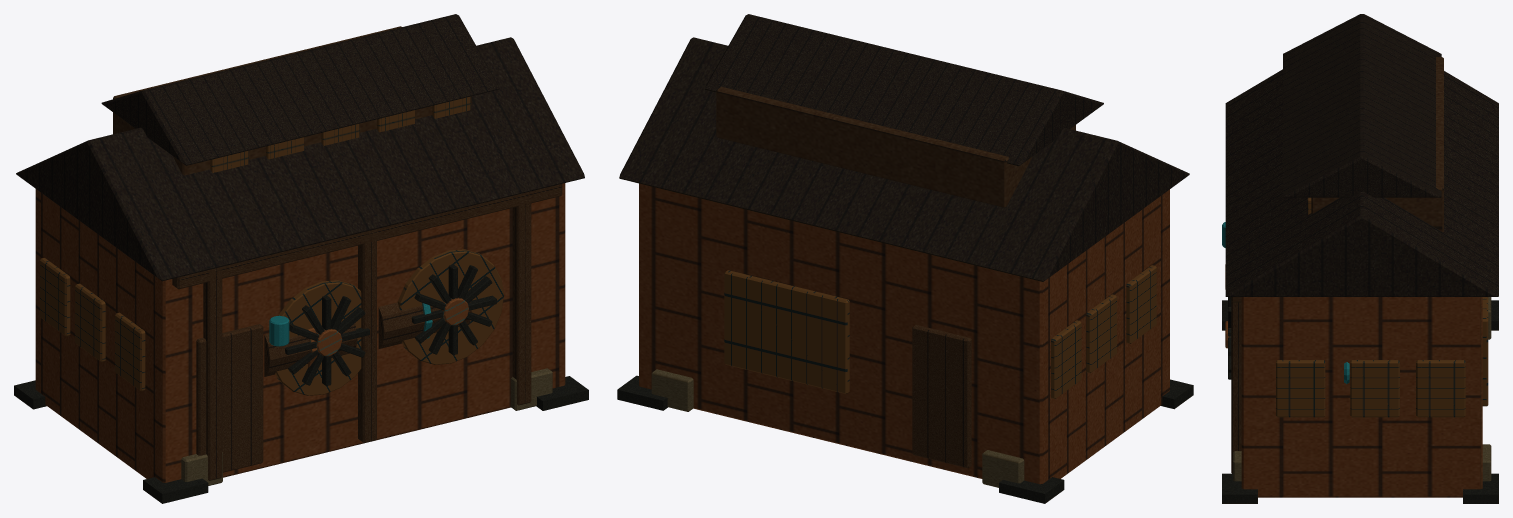
File: dynamo-hall.e5.glb
The picture shows the model from 3 angles, left to right: view 1: azimuth 30°, elevation 25°; view 2: azimuth 150°, elevation 25°; view 3: azimuth 270°, elevation 25°; orthographic projection. The views are drawn at different scales.
Visible parts, largest first — view 1: DynamoHallE5; view 2: DynamoHallE5; view 3: DynamoHallE5.
Boxes of the visible parts, x1,y1,x2,y2 form: DynamoHallE5: [14, 14, 588, 503]; DynamoHallE5: [617, 14, 1193, 503]; DynamoHallE5: [1222, 14, 1498, 503].
Bounding box in the file's own units: 5.38 × 4.15 × 3.24.
1 material, 1 textured.
